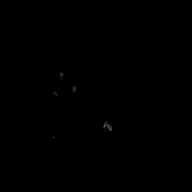v: (48, 69, 76, 96)
